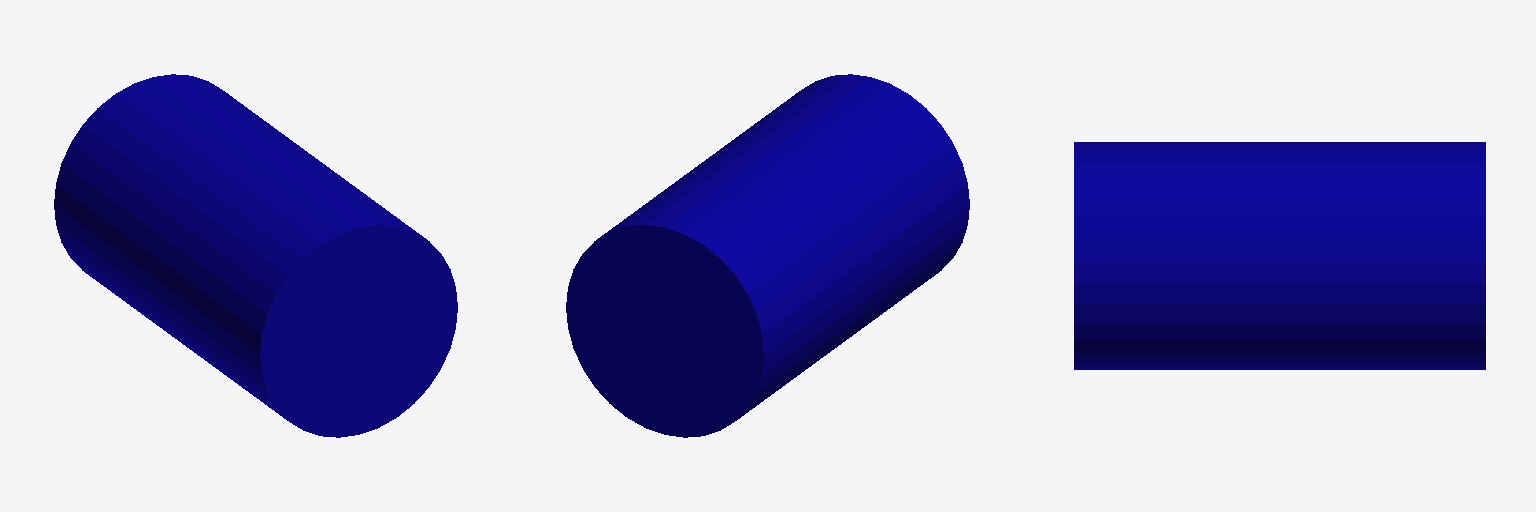
Rendered from bone.obj.
3 views of the same model, side by side, from view 1: azimuth 30°, elevation 25°; view 2: azimuth 150°, elevation 25°; view 3: azimuth 270°, elevation 25° (orthographic).
Visible parts, largest first — view 1: Cylinder; view 2: Cylinder; view 3: Cylinder.
Part boxes in pixels (bbox=[...]): Cylinder: bbox=[54, 74, 457, 437]; Cylinder: bbox=[566, 74, 969, 437]; Cylinder: bbox=[1074, 142, 1485, 369].
Bounding box in the file's own units: 0.25 × 0.25 × 0.45.